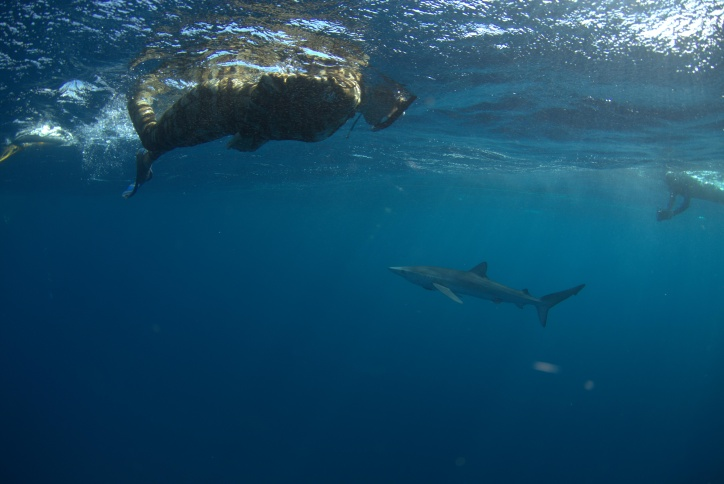Azul: (377, 247, 592, 342)
